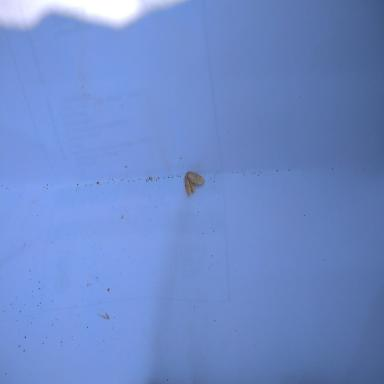pbw: (184, 171, 205, 195)
